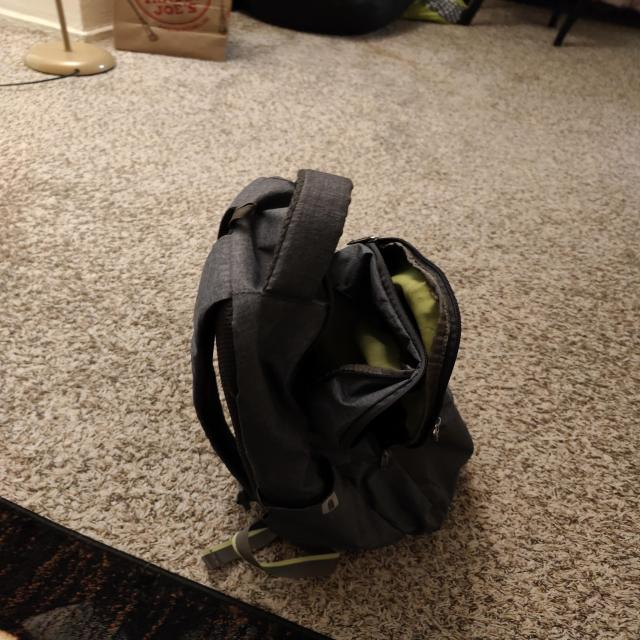bag: (219, 189, 462, 569)
